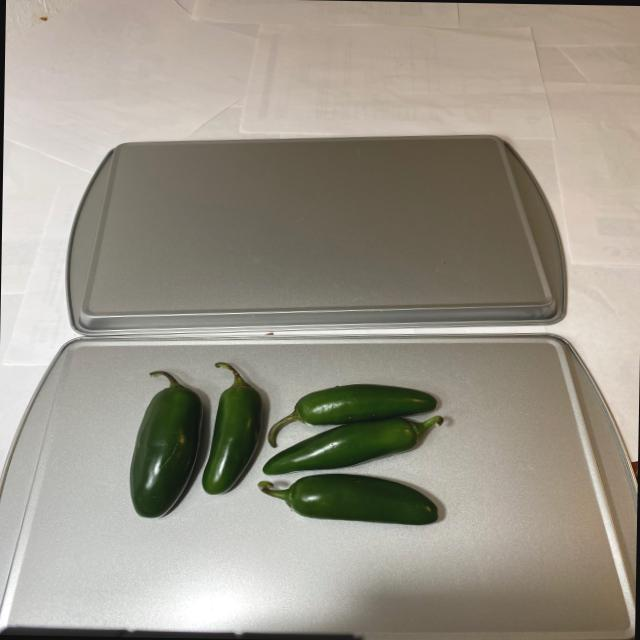chilli: (115, 360, 468, 528)
